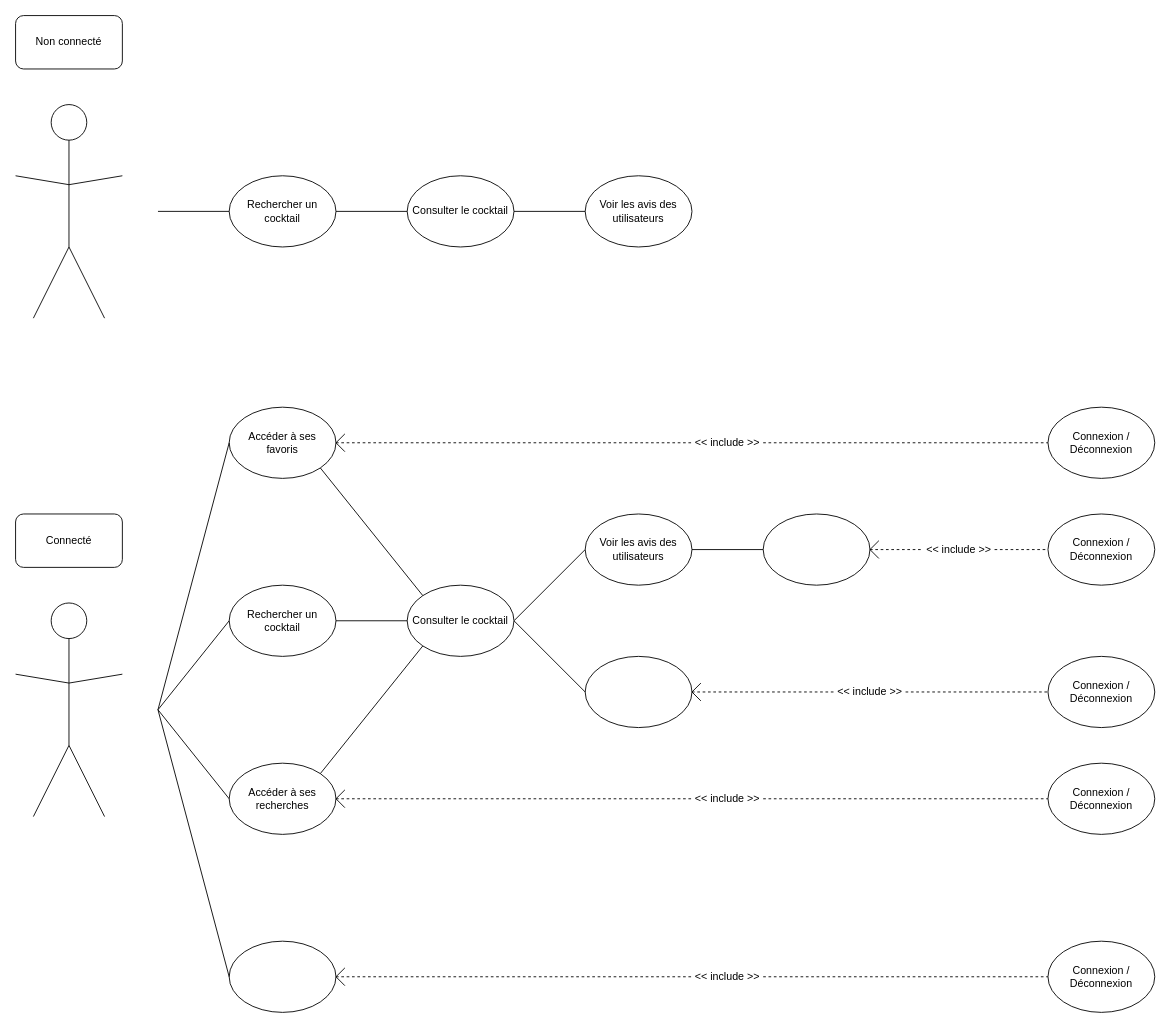
Some shapes in this 1170 by 1028 pixel diagram are drawn without their labels. The centre of each missing label's shape, as x and y in pixels:
"Ajouter ou supprimer un cocktail de ses favoris" belongs at point (638, 691).
"Poster un avis sur un cocktail" belongs at point (816, 549).
"Suggérer à un administrateur de créer un nouveau cocktail" belongs at point (282, 976).
